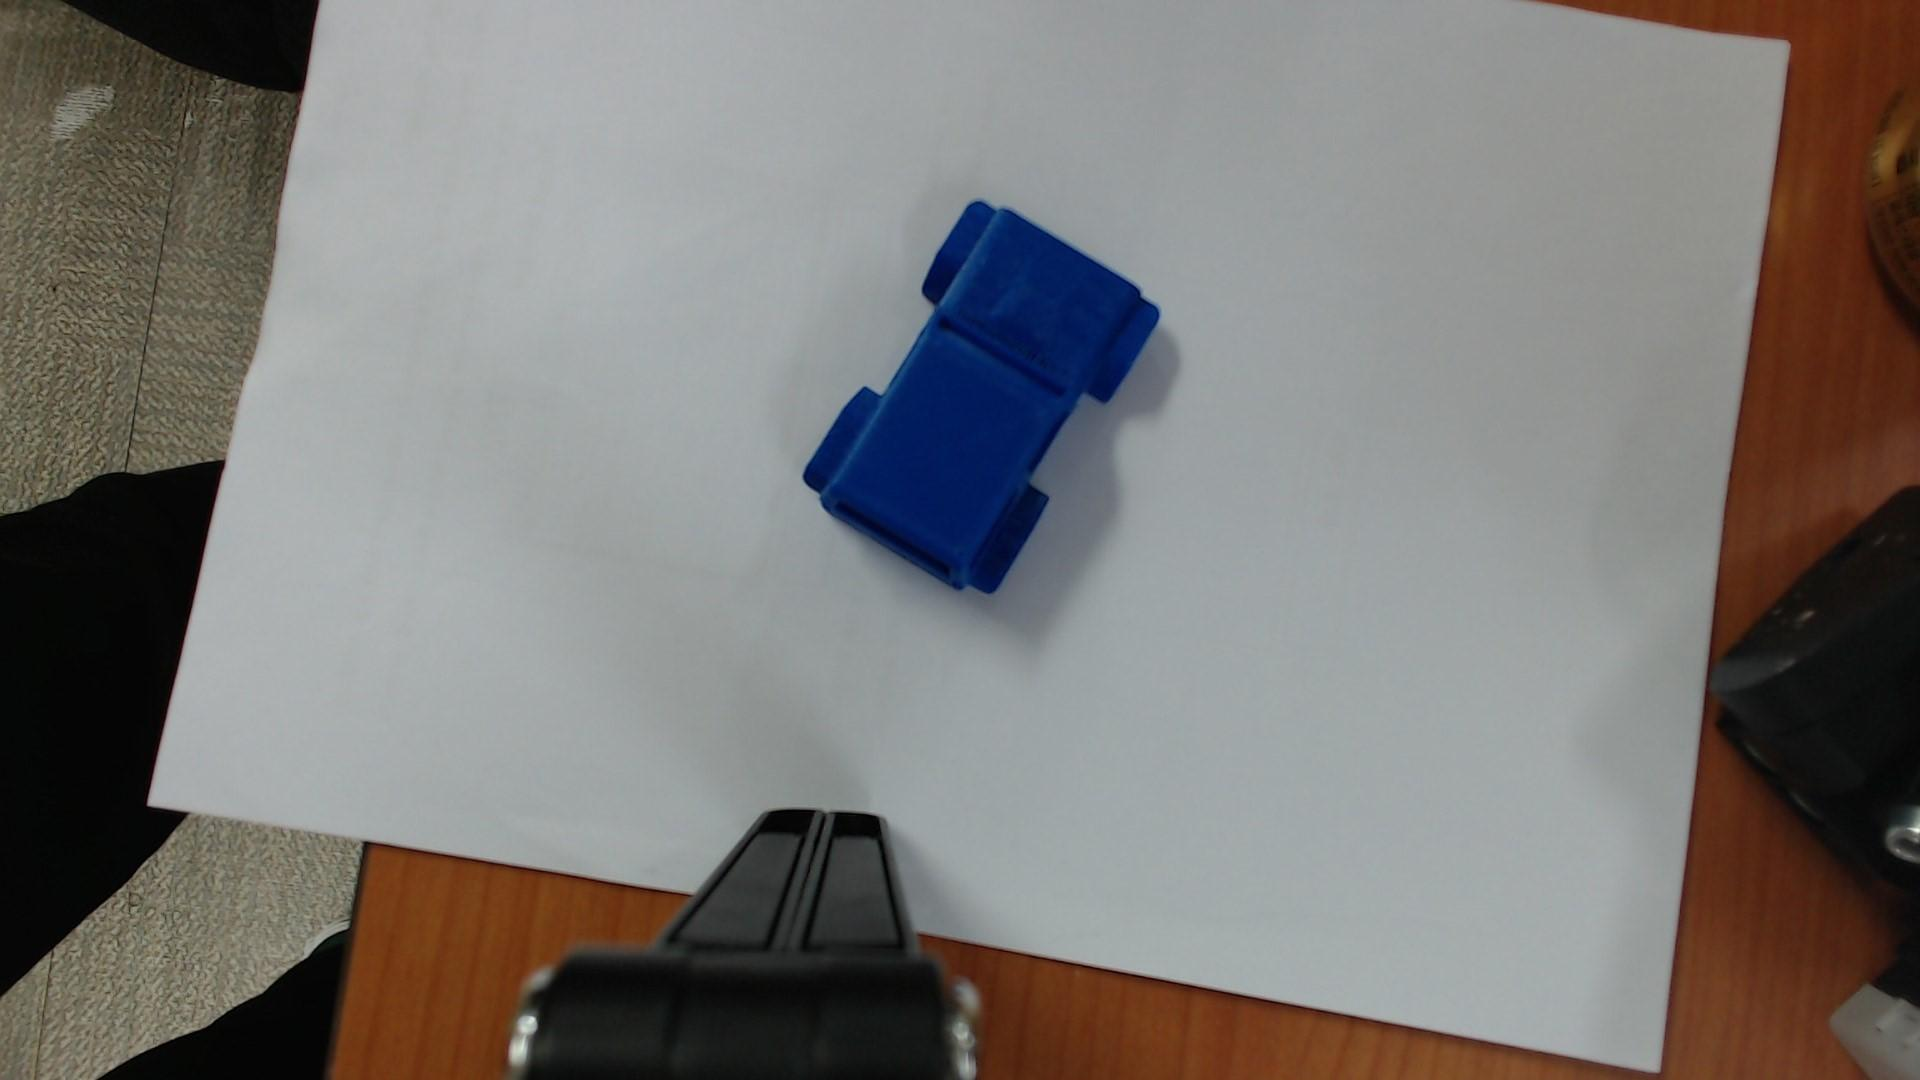Upper_ng: (804, 200, 1158, 592)
